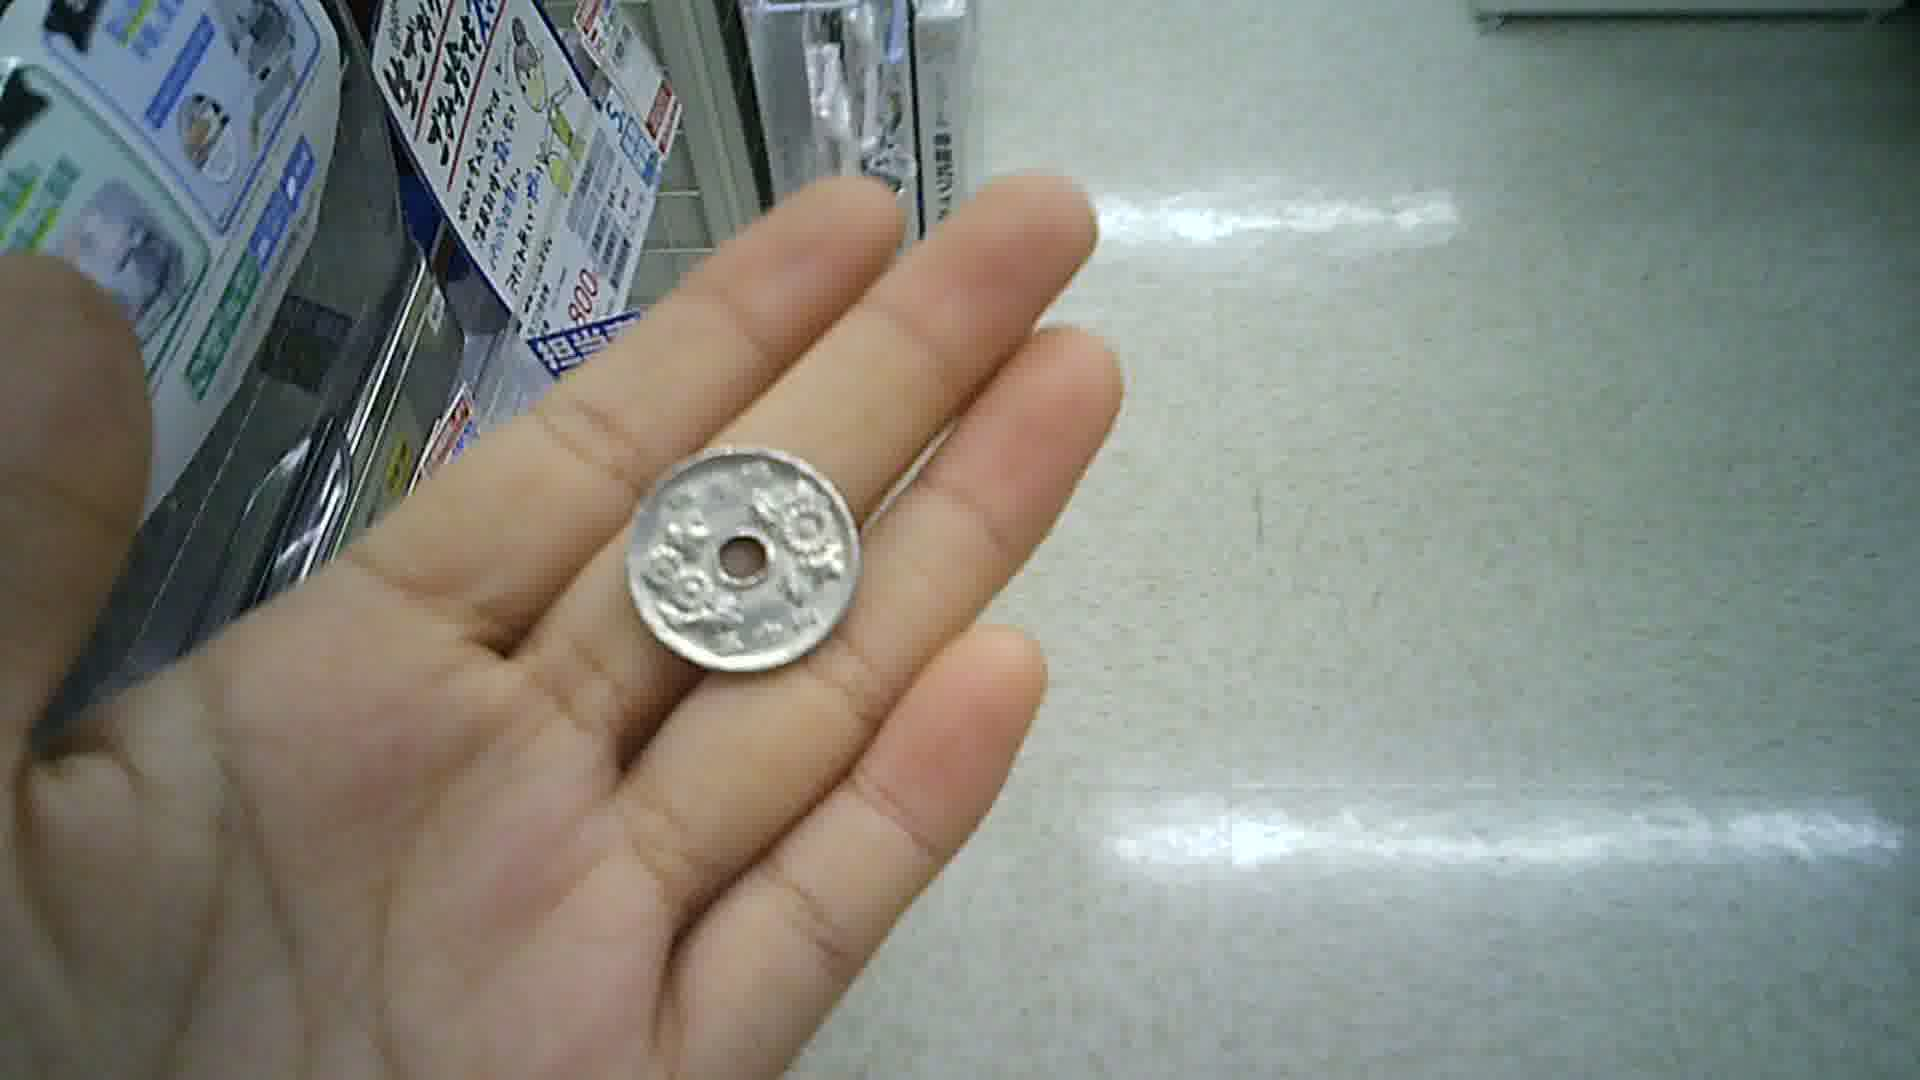50 Yen: (622, 439, 858, 676)
